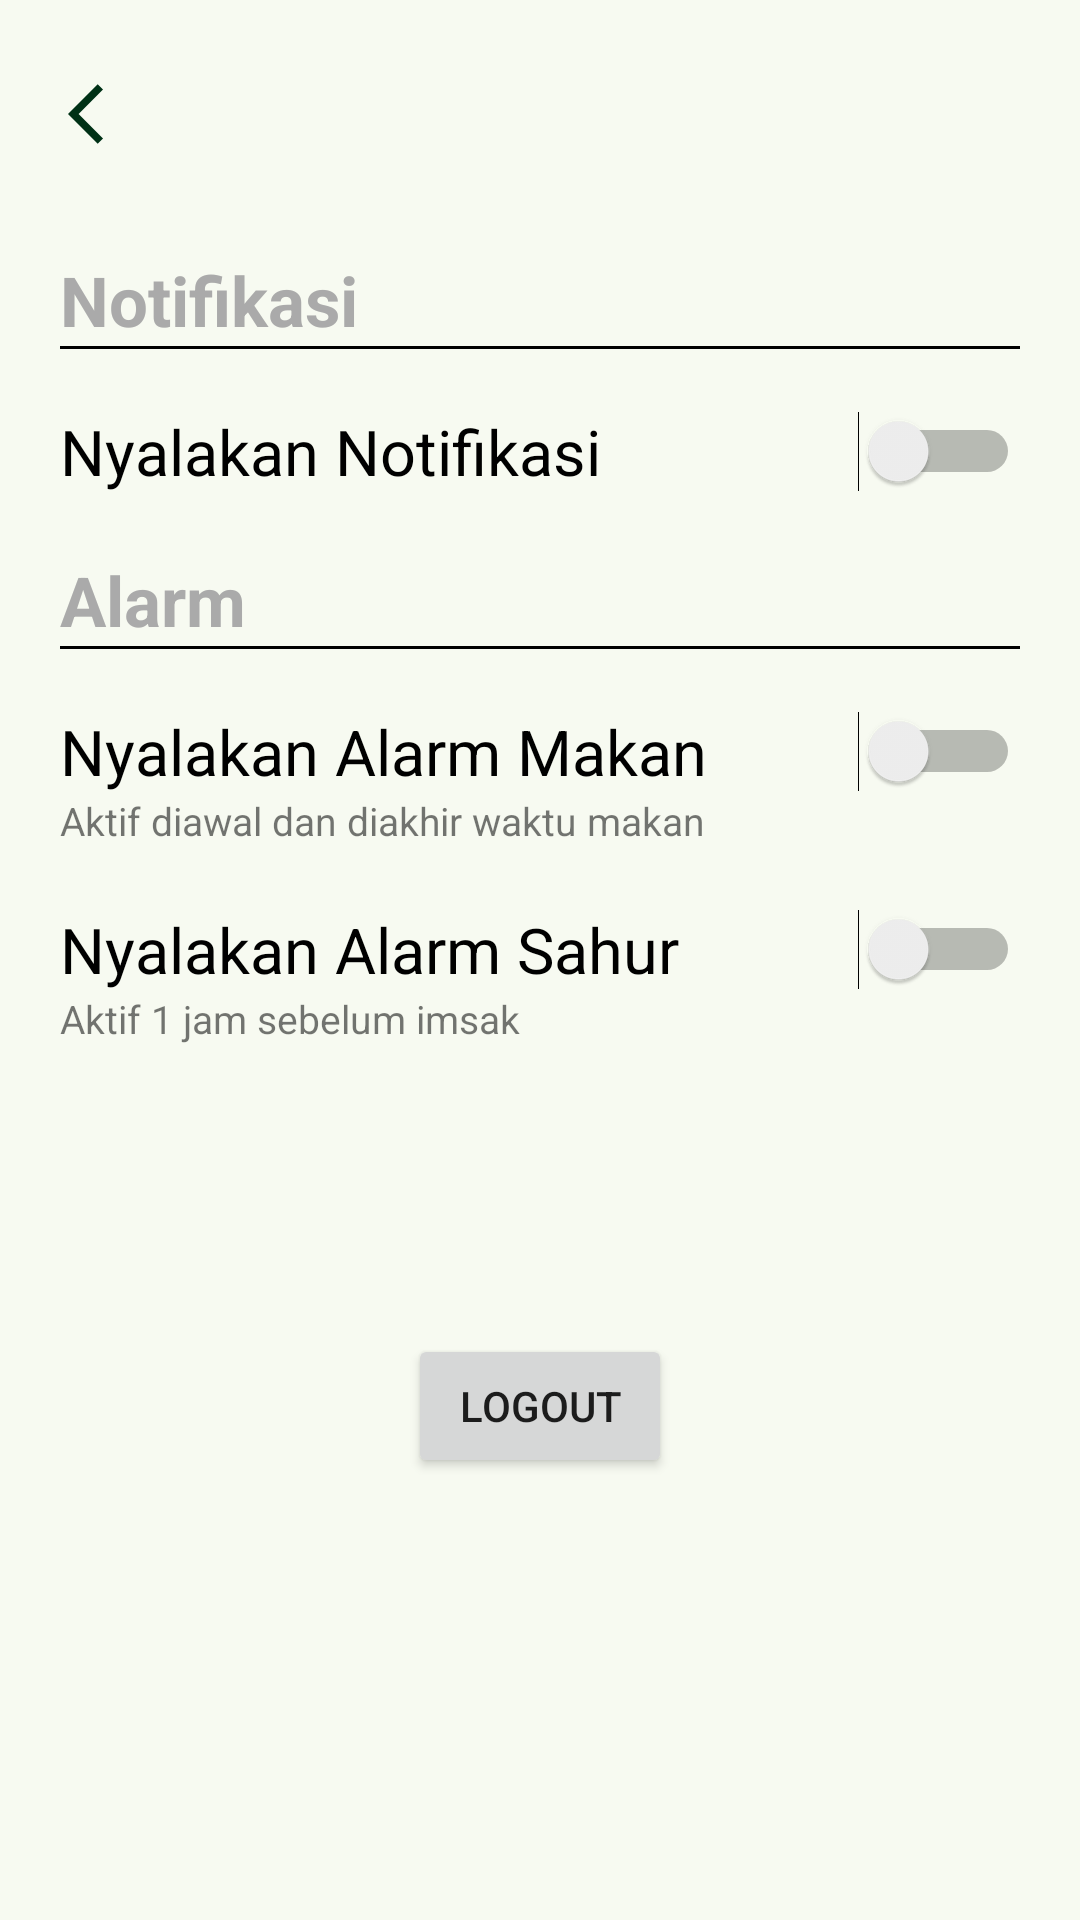

Icons on this 1080*1920 Android screen, each with the point to tap as (x,y):
back: (85,114)
